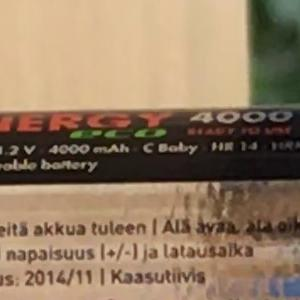ALK: (204, 233, 248, 268)
